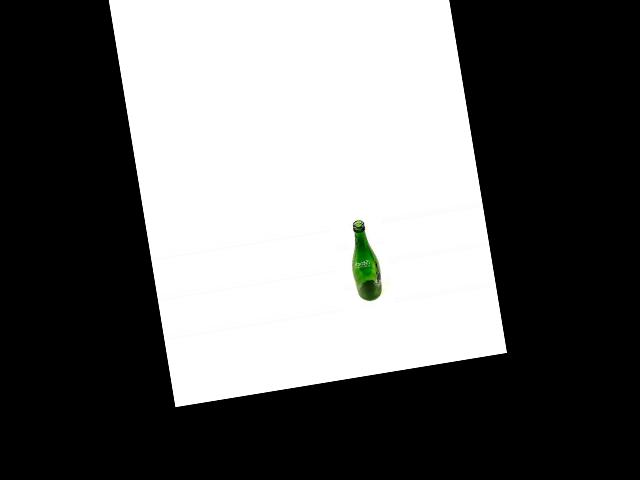beer: (344, 217, 384, 303)
